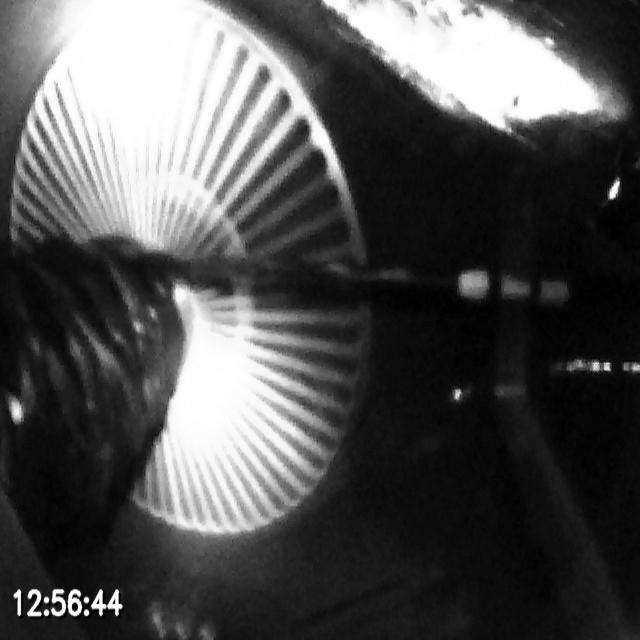white-dots: (458, 270, 568, 308)
